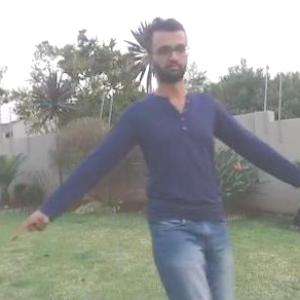land: (51, 48, 289, 289)
